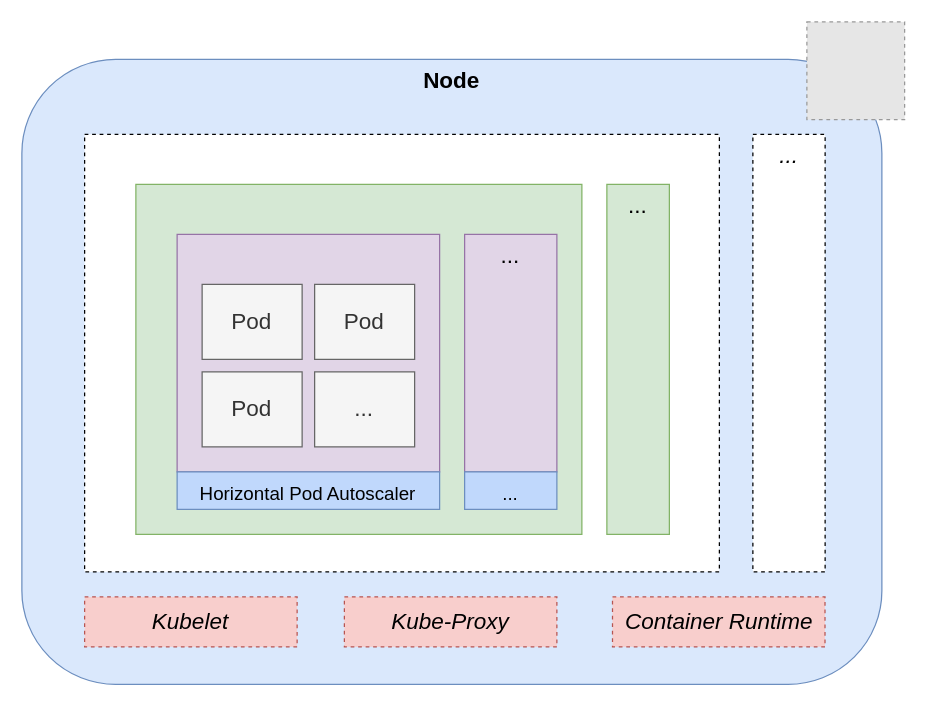
Some shapes in this 928 by 706 pixel diagram are drawn without their labels. Grey dashed boxes stand in for pictures. The box of each missing label's shape, as (x1, y1, x2, y2) in pixels:
Deployment: (135, 183, 582, 534)
Namespace: (83, 133, 719, 572)
Replica Set: (176, 233, 440, 472)
